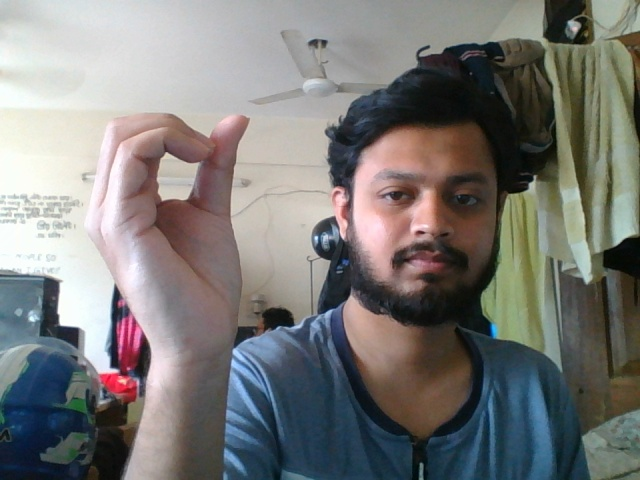ae: (89, 106, 262, 407)
